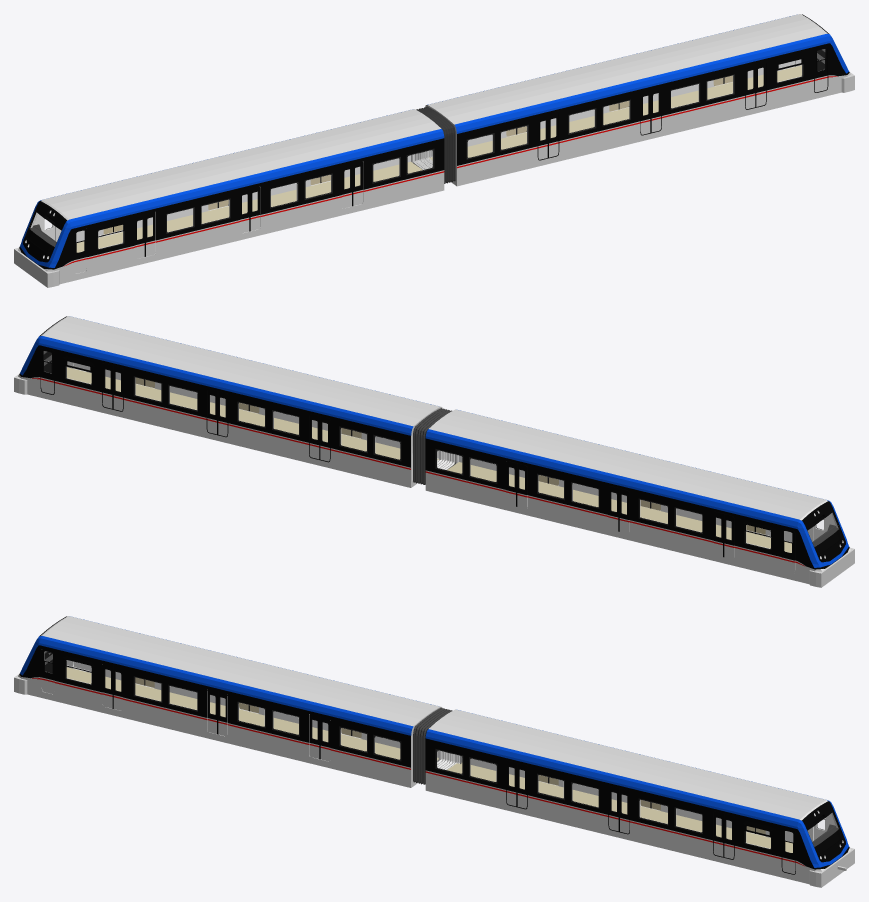
File: train_shell.fbx
3 views of the same model, one above another, from view 1: azimuth 30°, elevation 25°; view 2: azimuth 150°, elevation 25°; view 3: azimuth 330°, elevation 25° (orthographic).
Visible parts, largest first — view 1: Cube.135, Cube.141, Cube.139, Cube.152; view 2: Cube.135, Cube.141, Cube.139, Cube.152; view 3: Cube.141, Cube.135, Cube.139, Cube.152.
Part boxes in pixels (box(x1,y1,x2,y2)): Cube.135: box(14, 109, 444, 287); Cube.141: box(425, 14, 854, 186); Cube.139: box(30, 151, 432, 273); Cube.152: box(427, 49, 825, 178); Cube.135: box(425, 409, 854, 587); Cube.141: box(14, 316, 442, 487); Cube.139: box(437, 452, 838, 552); Cube.152: box(43, 351, 441, 480); Cube.141: box(425, 709, 854, 887); Cube.135: box(14, 616, 442, 787); Cube.139: box(41, 651, 441, 761); Cube.152: box(437, 752, 838, 852).
Size of the model in its own units: 4318 by 309 by 323.
